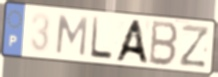3: (30, 11, 53, 54)
A: (113, 19, 151, 66)
B: (147, 19, 180, 69)
L: (89, 15, 114, 62)
M: (54, 13, 90, 58)
Z: (178, 23, 211, 69)
